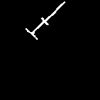double_crochet: (26, 2, 64, 38)
